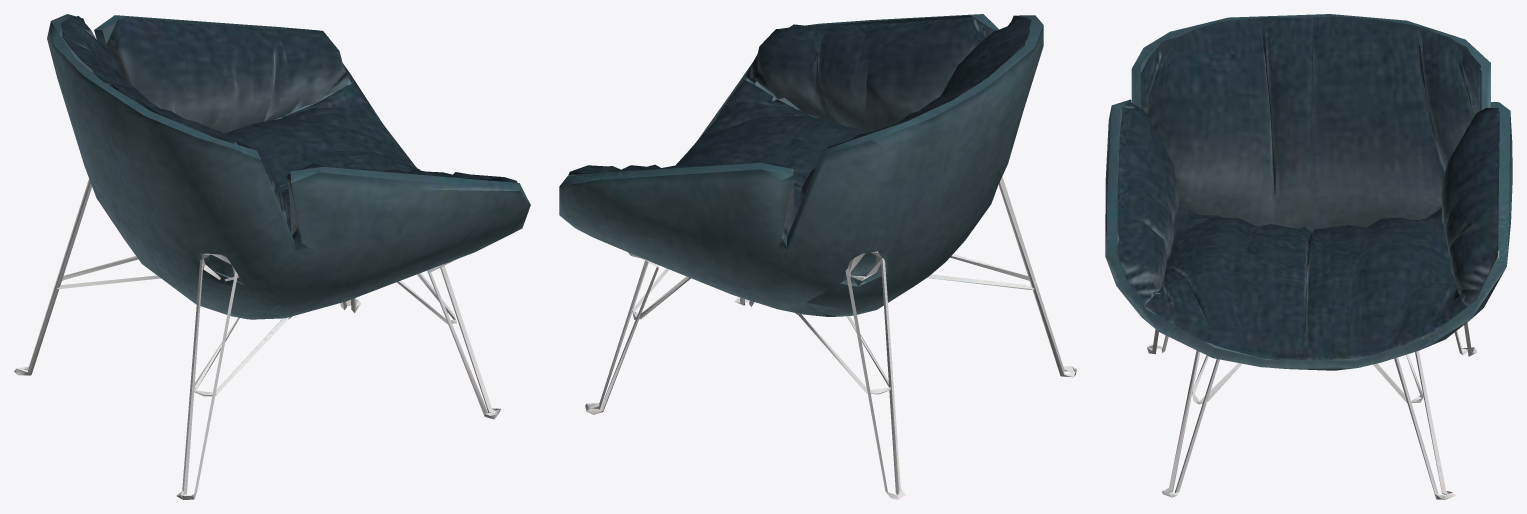
The model's file is S_Sofa0014.obj.
The picture shows the model from 3 angles, left to right: view 1: azimuth 30°, elevation 25°; view 2: azimuth 150°, elevation 25°; view 3: azimuth 270°, elevation 25°; orthographic projection. The views are drawn at different scales.
Bounding box in the file's own units: 0.652 × 0.633 × 0.692.
Materials: 1 (1 with a texture image).
